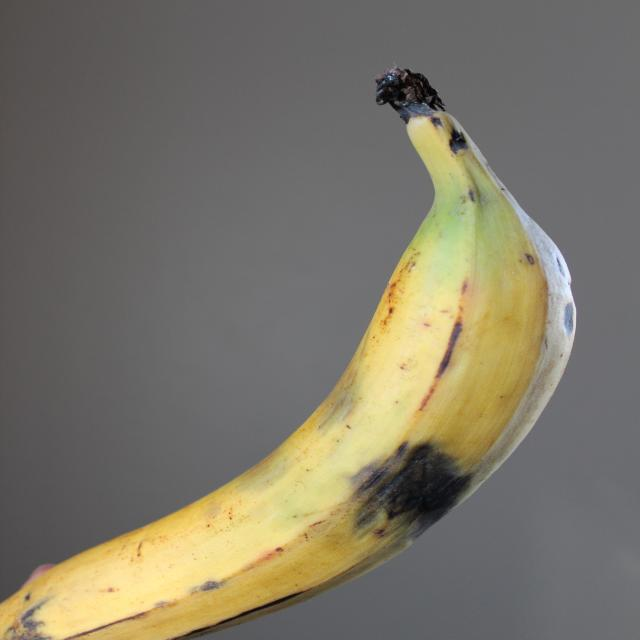Banana: (0, 67, 584, 639)
